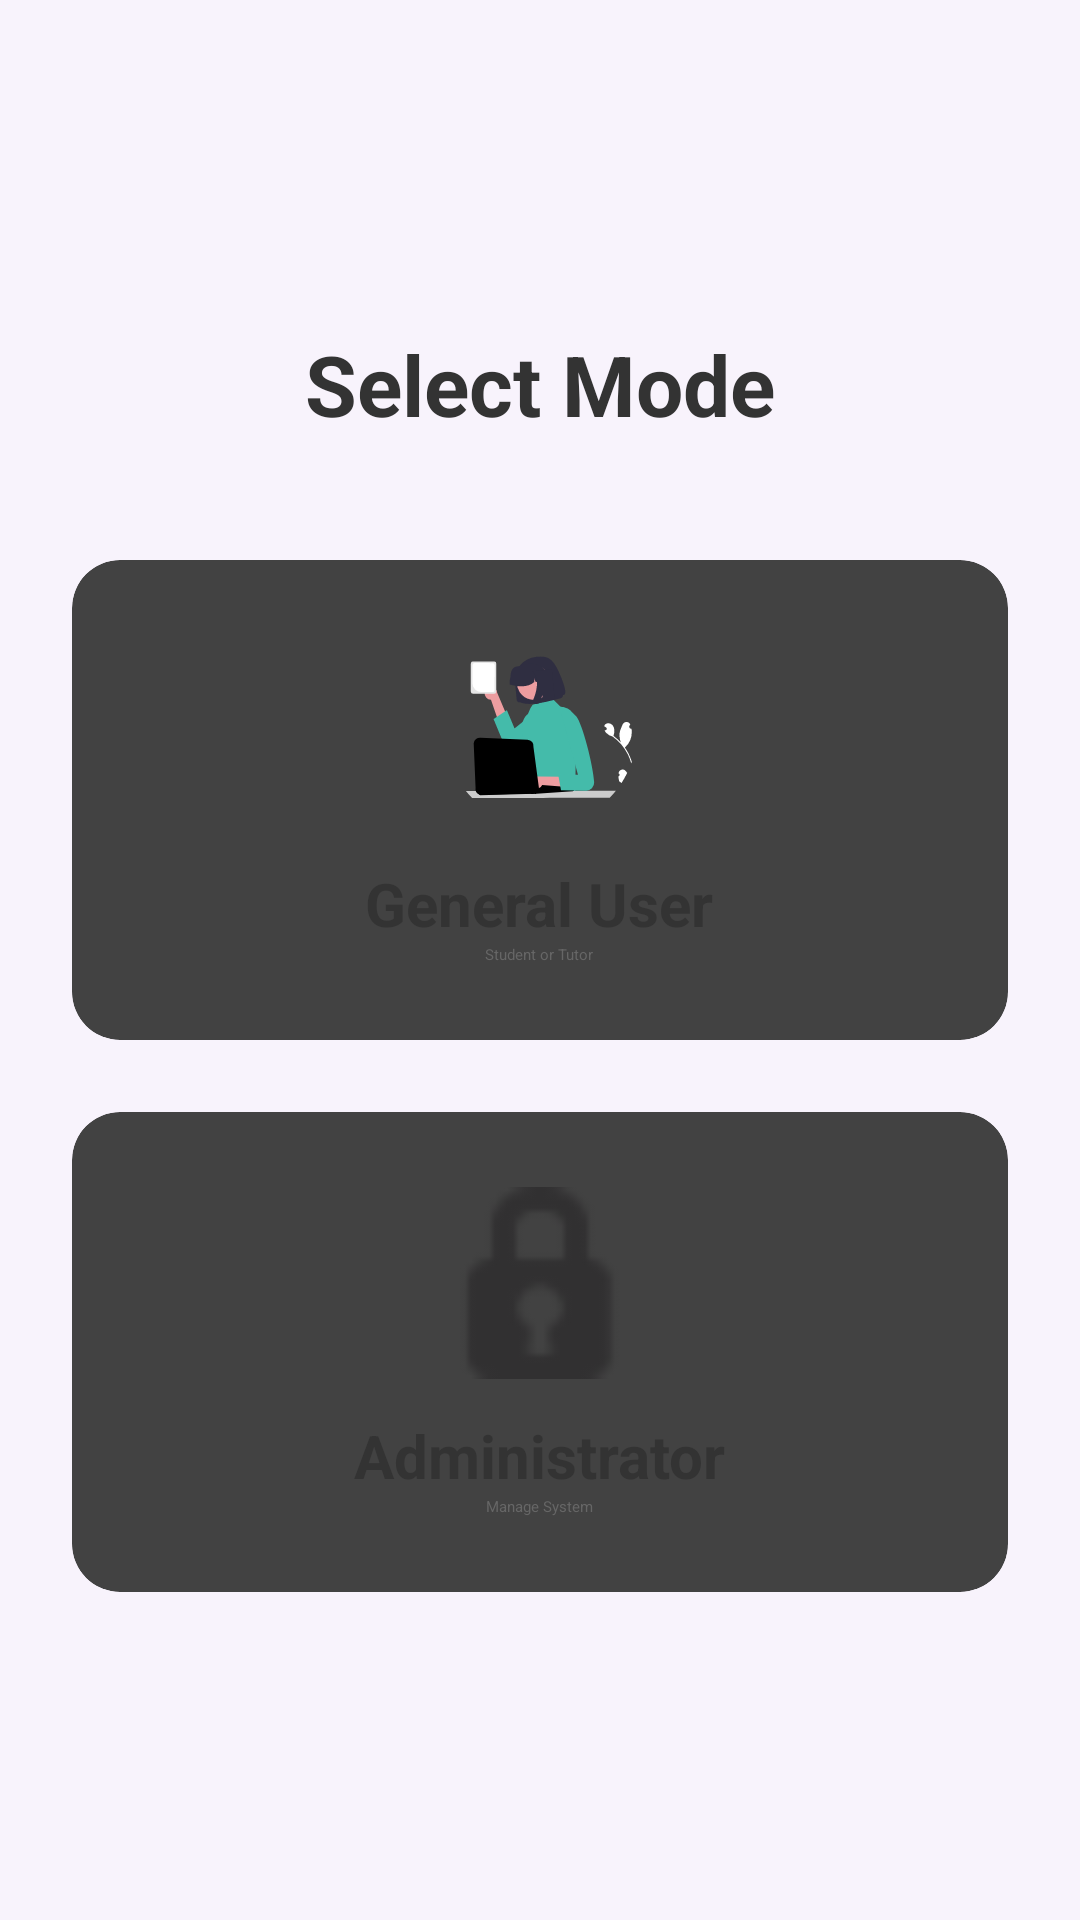

Locate icon controls on the screen. Image size 1080 x 1920, boxes as [x1, y1, x2, y2].
teacher: [466, 661, 632, 798]
